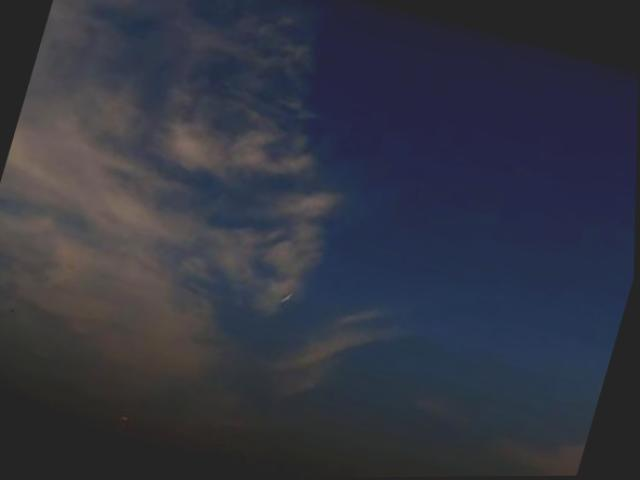iha: (282, 290, 295, 304)
